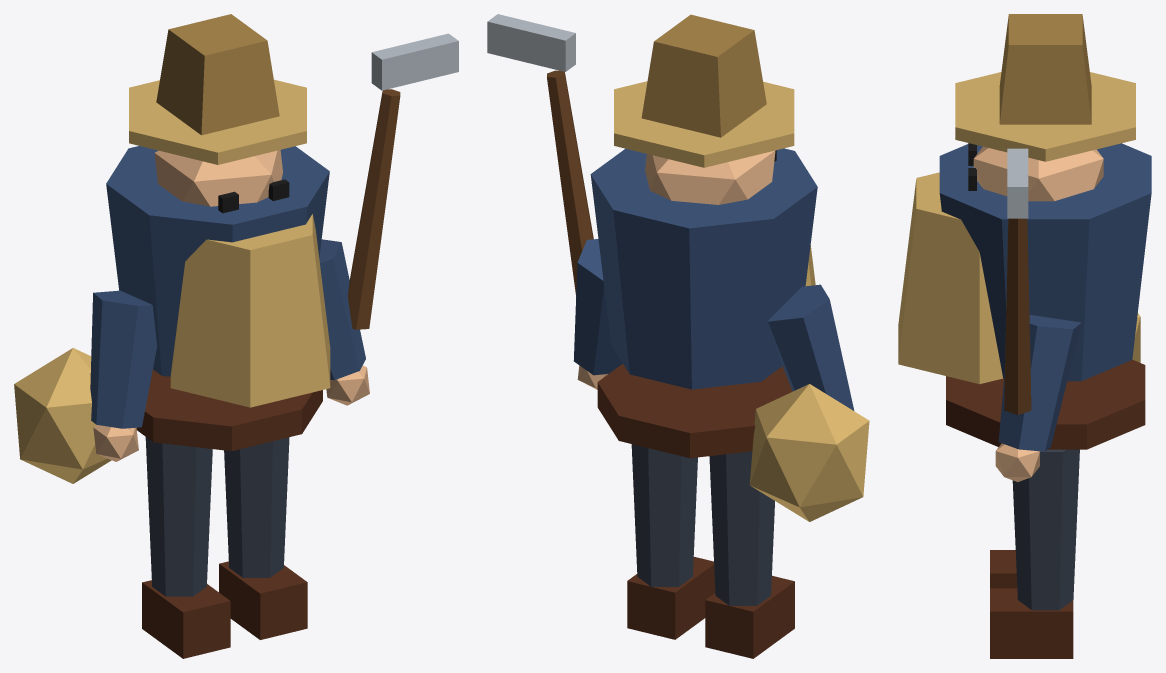
Rendered from npc_farmer.glb.
3 renders of one model, left to right at view 1: azimuth 30°, elevation 25°; view 2: azimuth 150°, elevation 25°; view 3: azimuth 270°, elevation 25°, orthographic.
Parts seen in each view (by area): view 1: vest, torso.005, hat.002, arm_0.005, leg_0.006, seed_sack, belt.001, hat_brim.002, leg_1.006, head.005, hoe, boot_0.005 (+3 smaller); view 2: torso.005, seed_sack, hat.002, belt.001, leg_0.006, hat_brim.002, leg_1.006, arm_0.005, head.005, boot_0.005, boot_1.005, arm_1.005 (+2 smaller); view 3: torso.005, vest, hat.002, belt.001, leg_1.006, hat_brim.002, arm_1.005, boot_1.005, head.005, hoe, hoe_blade, boot_0.005.
Boxes of the visible parts, bbox=[...] form: vest: bbox=[170, 214, 330, 407]; torso.005: bbox=[106, 146, 329, 376]; hat.002: bbox=[156, 14, 279, 135]; arm_0.005: bbox=[90, 290, 157, 461]; leg_0.006: bbox=[145, 437, 212, 596]; seed_sack: bbox=[14, 348, 111, 483]; belt.001: bbox=[136, 369, 322, 451]; hat_brim.002: bbox=[129, 79, 306, 164]; leg_1.006: bbox=[224, 437, 289, 577]; head.005: bbox=[154, 150, 289, 213]; hoe: bbox=[348, 89, 400, 329]; boot_0.005: bbox=[142, 580, 230, 658]; torso.005: bbox=[590, 148, 817, 389]; seed_sack: bbox=[749, 384, 869, 521]; hat.002: bbox=[641, 14, 766, 137]; belt.001: bbox=[597, 364, 792, 458]; leg_0.006: bbox=[709, 451, 774, 605]; hat_brim.002: bbox=[614, 81, 794, 167]; leg_1.006: bbox=[631, 444, 697, 586]; arm_0.005: bbox=[767, 284, 854, 410]; head.005: bbox=[645, 150, 776, 204]; boot_0.005: bbox=[705, 575, 794, 658]; boot_1.005: bbox=[627, 556, 715, 639]; arm_1.005: bbox=[573, 239, 622, 389]; torso.005: bbox=[939, 143, 1151, 381]; vest: bbox=[898, 172, 1003, 384]; hat.002: bbox=[999, 14, 1091, 124]; belt.001: bbox=[946, 359, 1145, 449]; leg_1.006: bbox=[1012, 449, 1079, 610]; hat_brim.002: bbox=[955, 72, 1135, 161]; arm_1.005: bbox=[995, 315, 1081, 481]; boot_1.005: bbox=[990, 588, 1073, 658]; head.005: bbox=[968, 143, 1103, 201]; hoe: bbox=[1004, 218, 1031, 414]; hoe_blade: bbox=[1007, 148, 1028, 218]; boot_0.005: bbox=[990, 550, 1017, 588].
Size of the model in its own units: 1.35 by 1.9 by 0.7287.
